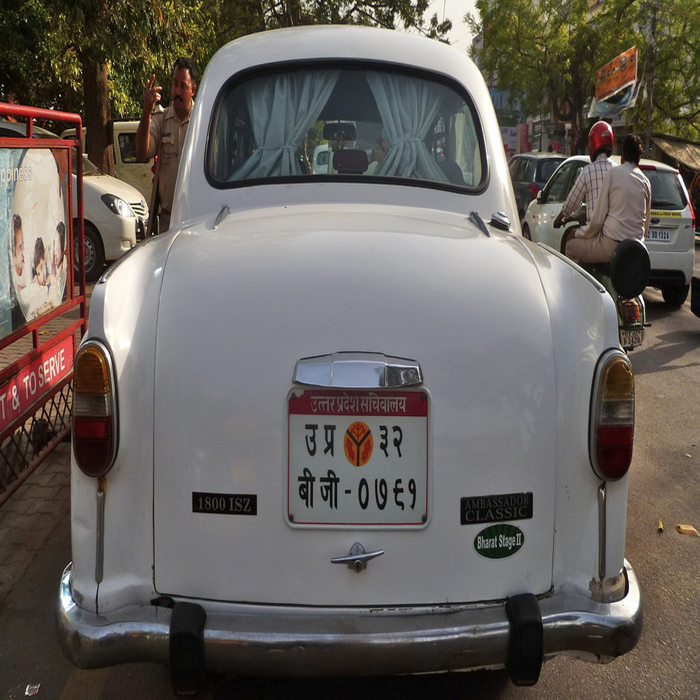n: (279, 380, 435, 536)
